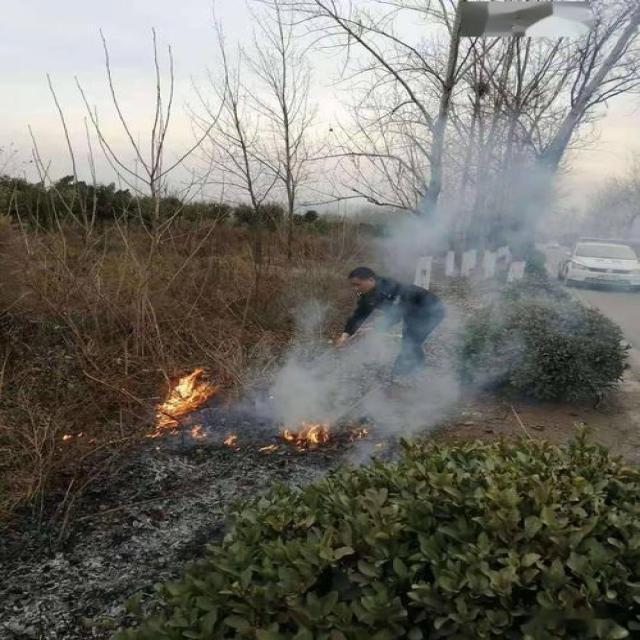Fire: (150, 366, 217, 436)
Smoke: (269, 357, 453, 464)
